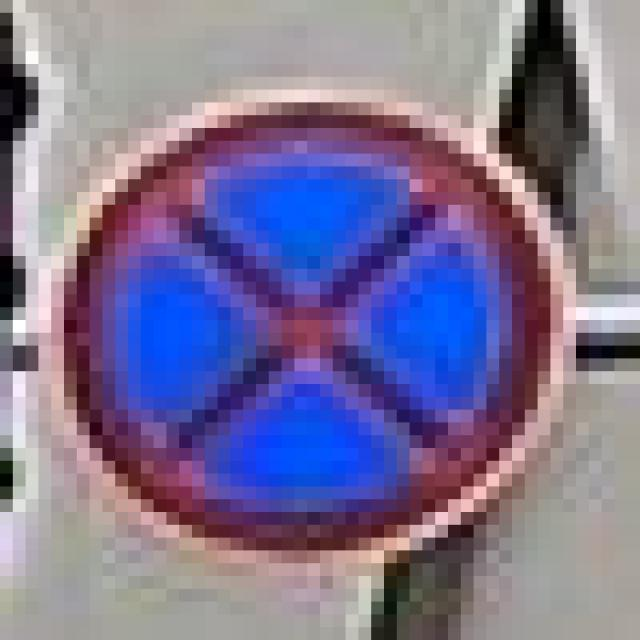NO_STOPPING_OR_STANDING: (52, 90, 550, 550)
